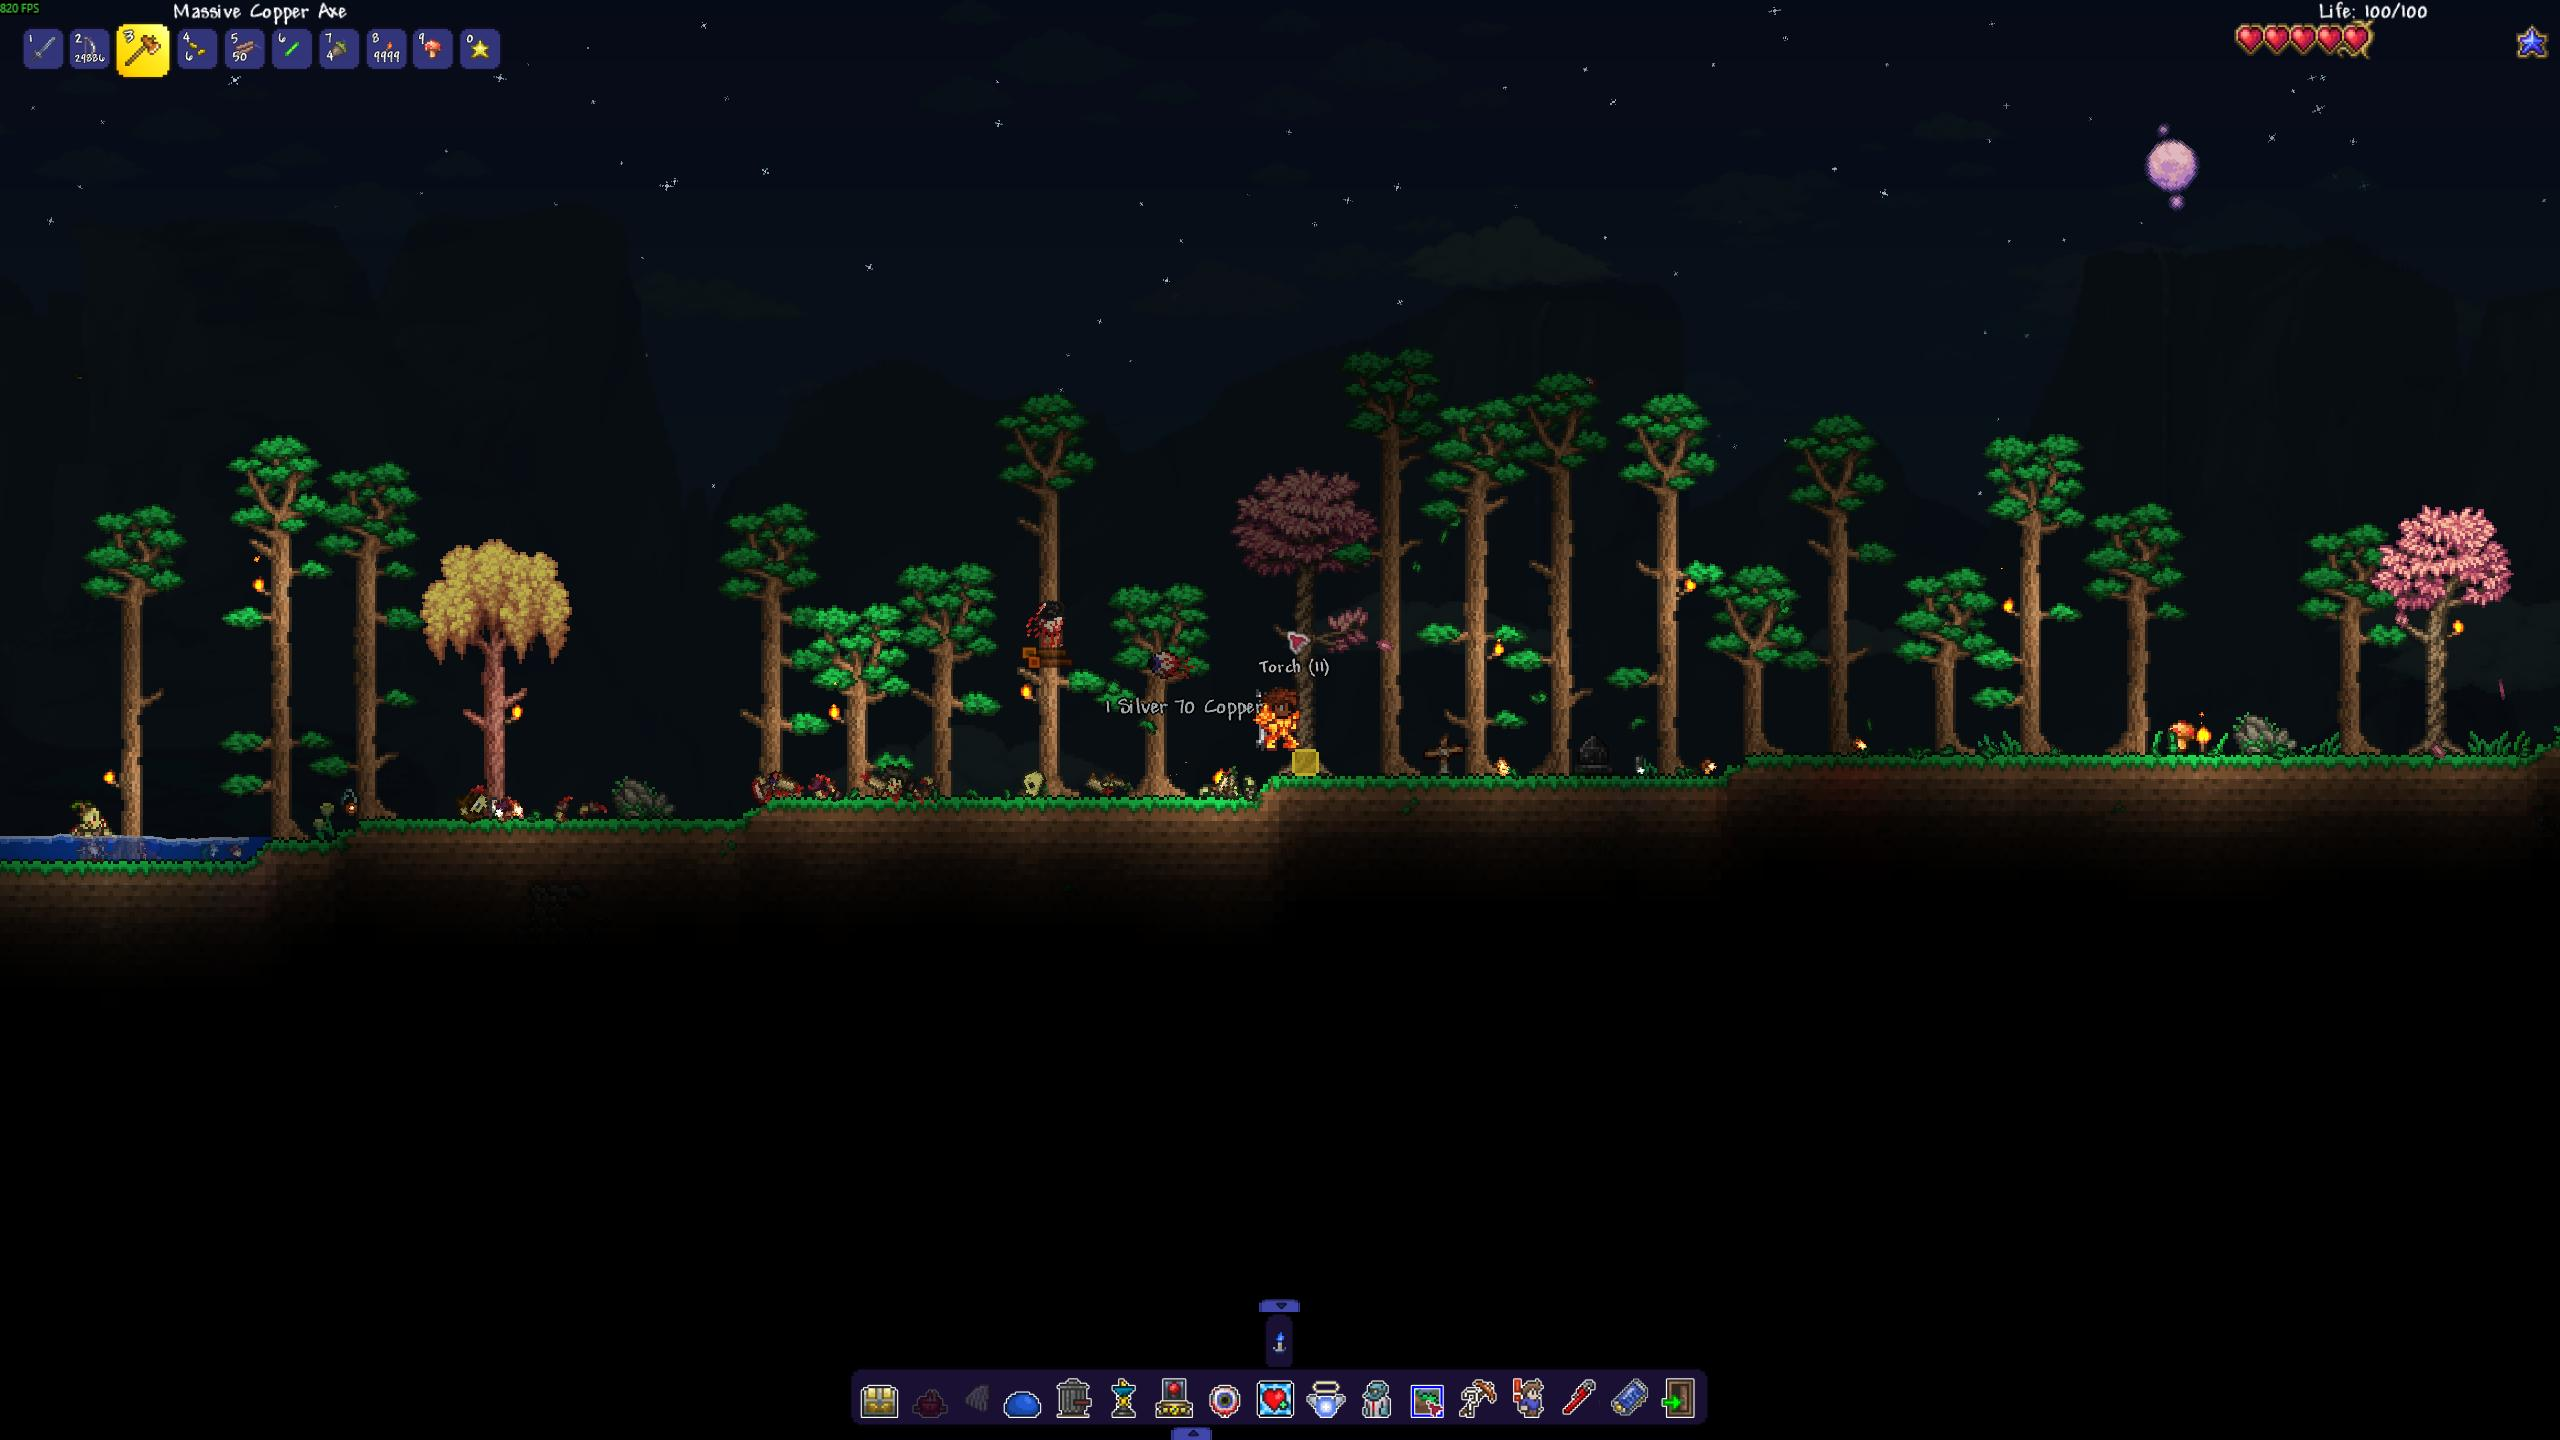Demon Eye: (1025, 600, 1071, 642), (1146, 644, 1196, 682)
Zombie: (65, 795, 118, 862)
